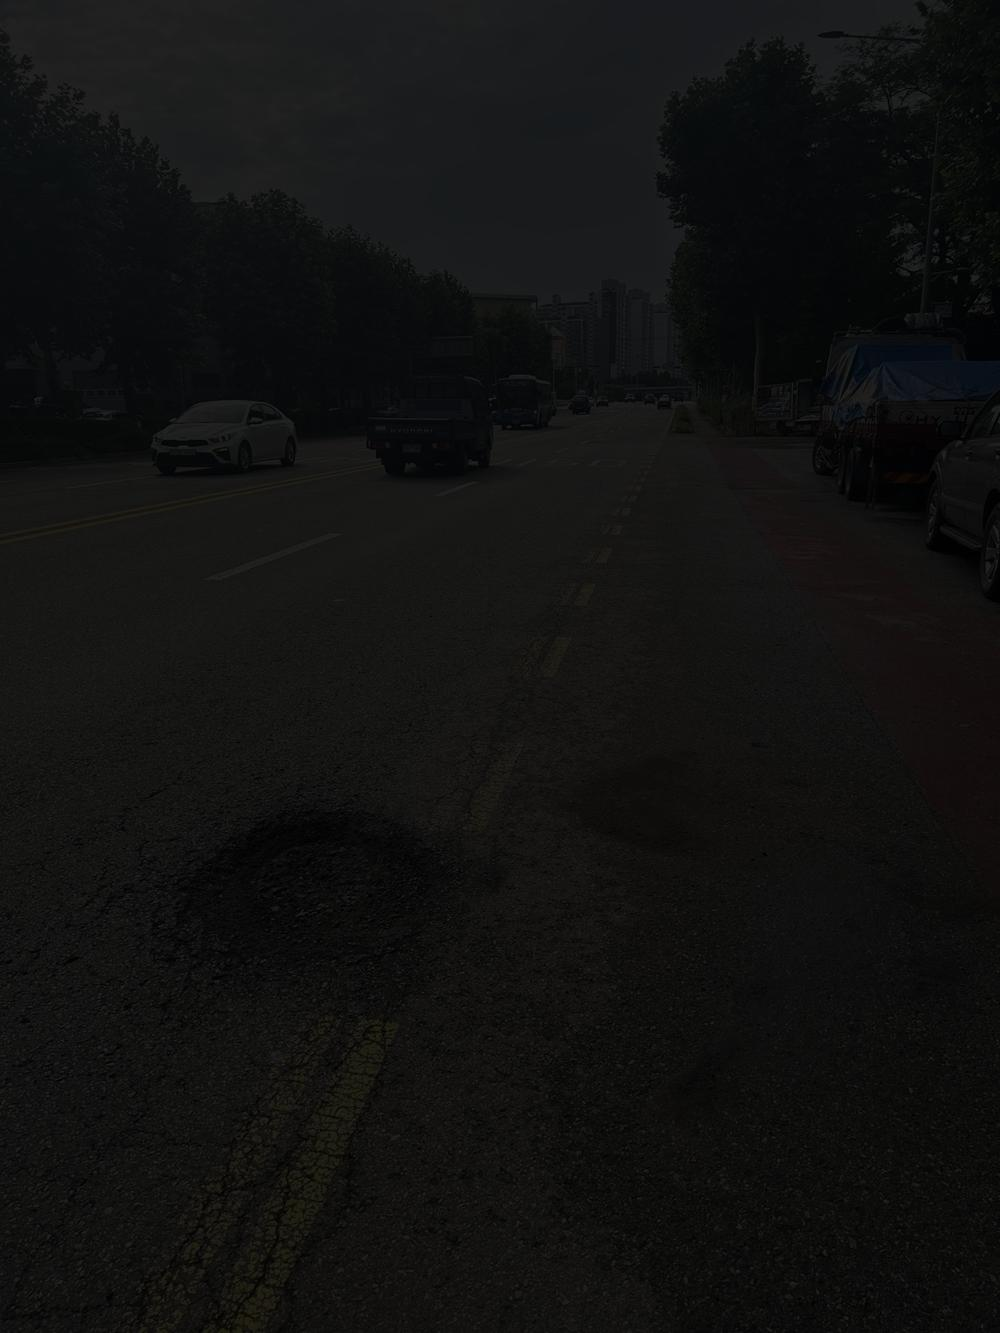pothole: (145, 782, 497, 1003)
